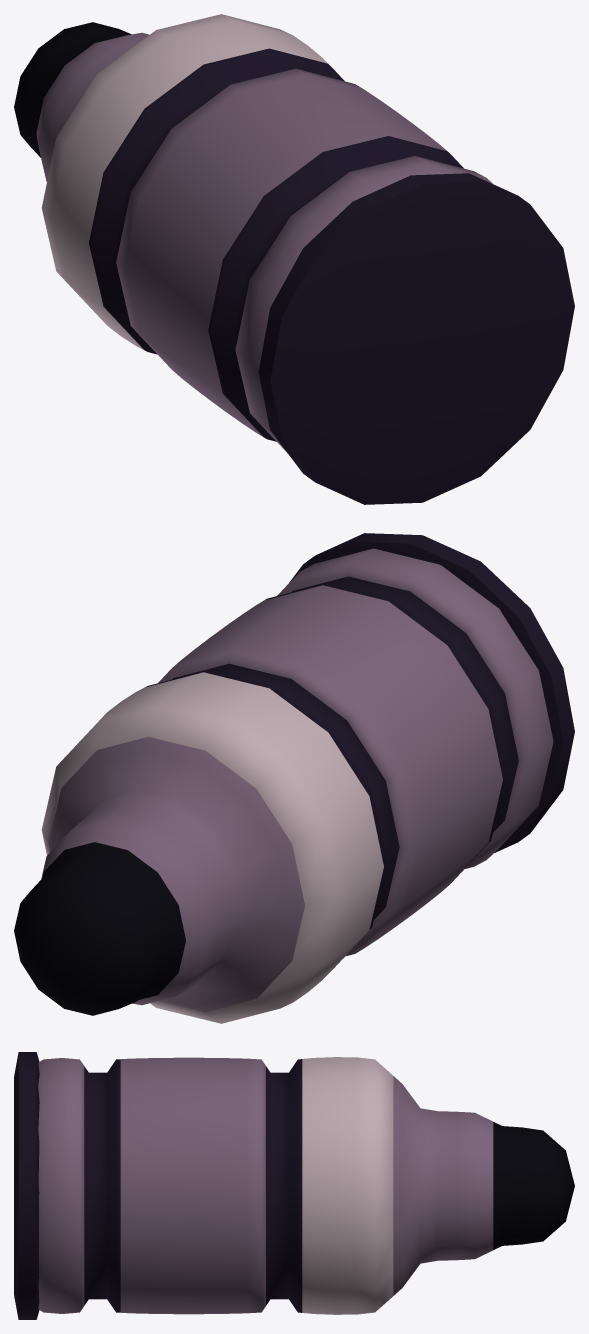
Rendered from shot_rail_shell.glb.
3 views of the same model, one above another, from view 1: azimuth 30°, elevation 25°; view 2: azimuth 150°, elevation 25°; view 3: azimuth 270°, elevation 25° (orthographic). The views are drawn at different scales.
Visible parts, largest first — view 1: rsh_rim, rsh_body2, rsh_body4, rsh_body3, rsh_body1, rsh_body0, rsh_body6, rsh_body5; view 2: rsh_body2, rsh_body5, rsh_body4, rsh_body6, rsh_body0, rsh_rim, rsh_body1, rsh_body3; view 3: rsh_body2, rsh_body4, rsh_body5, rsh_body0, rsh_body3, rsh_body1, rsh_body6, rsh_rim.
Boxes of the visible parts, x1,y1,x2,y2 form: rsh_rim: (258, 173, 574, 504); rsh_body2: (116, 68, 446, 436); rsh_body4: (41, 14, 327, 349); rsh_body3: (89, 48, 344, 354); rsh_body1: (208, 136, 463, 441); rsh_body0: (235, 156, 492, 453); rsh_body6: (14, 22, 131, 157); rsh_body5: (36, 32, 149, 181); rsh_body2: (158, 585, 502, 956); rsh_body5: (41, 736, 304, 1012); rsh_body4: (41, 672, 383, 1023); rsh_body6: (14, 842, 185, 1015); rsh_body0: (277, 548, 553, 869); rsh_rim: (289, 533, 574, 852); rsh_body1: (264, 576, 518, 885); rsh_body3: (145, 663, 399, 968); rsh_body2: (120, 1057, 265, 1314); rsh_body4: (302, 1057, 393, 1314); rsh_body5: (393, 1076, 493, 1295); rsh_body0: (38, 1058, 84, 1313); rsh_body3: (266, 1059, 302, 1312); rsh_body1: (84, 1059, 120, 1312); rsh_body6: (493, 1122, 574, 1249); rsh_rim: (14, 1052, 39, 1319).
Size of the model in its own units: 5.9 by 5.9 by 12.35.
